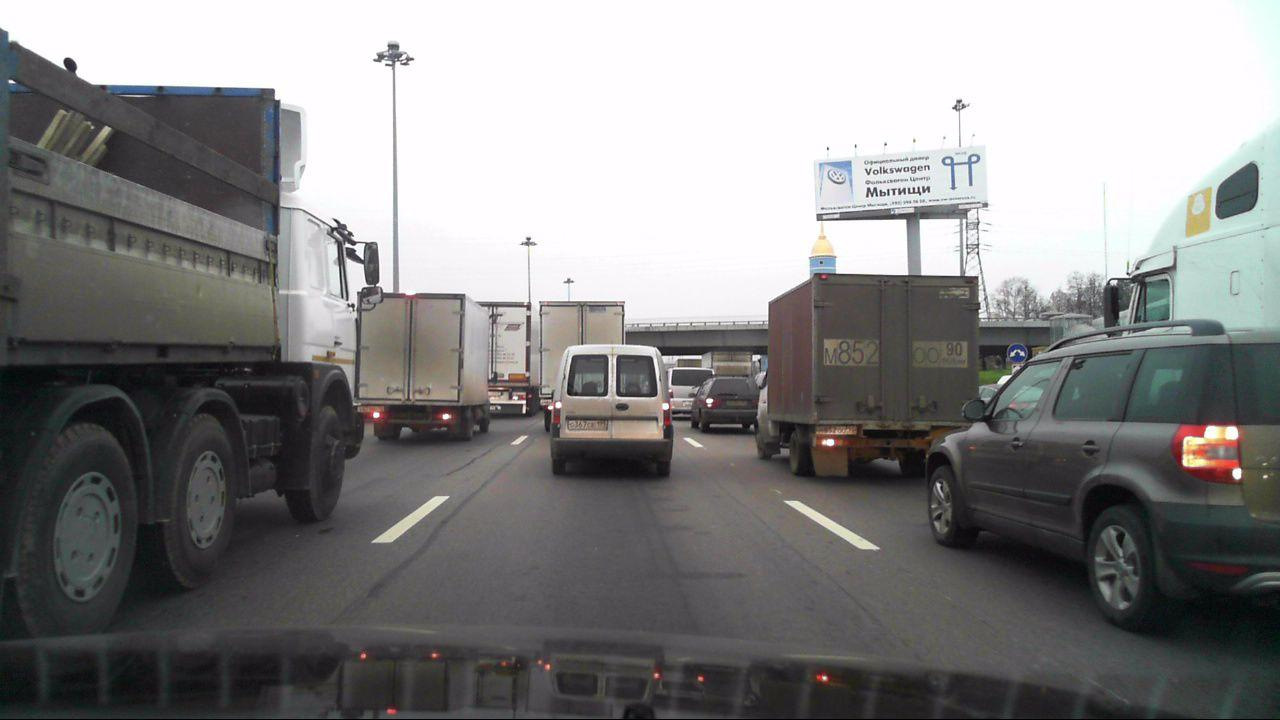road_sign: (1006, 343, 1029, 364)
